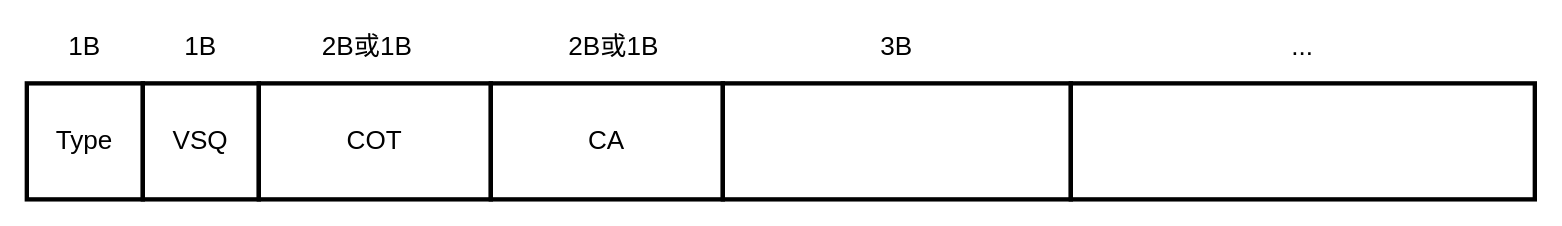
The diagram is 1562 pixels wide and 226 high, and some of its shapes have lost their labels. Here are the shapes that lost their labels. From the top down, the centre of each, then its label:
At (896,140): "IOA".
At (1302,140): "Data".
